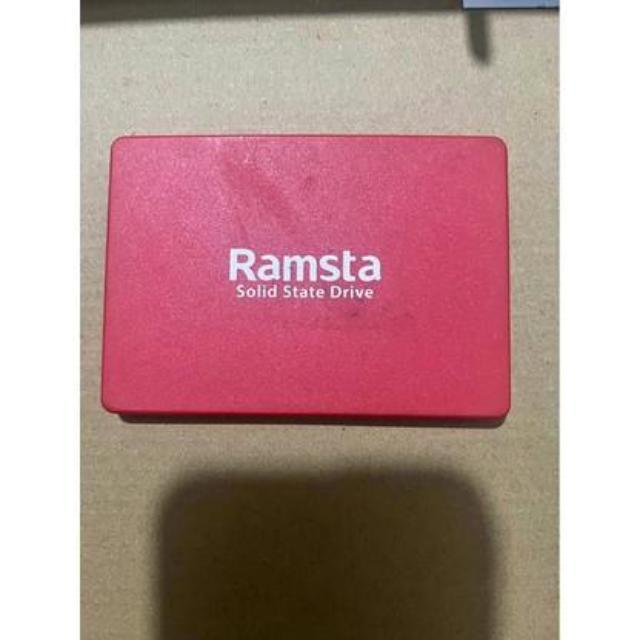DISK: (97, 128, 514, 436)
